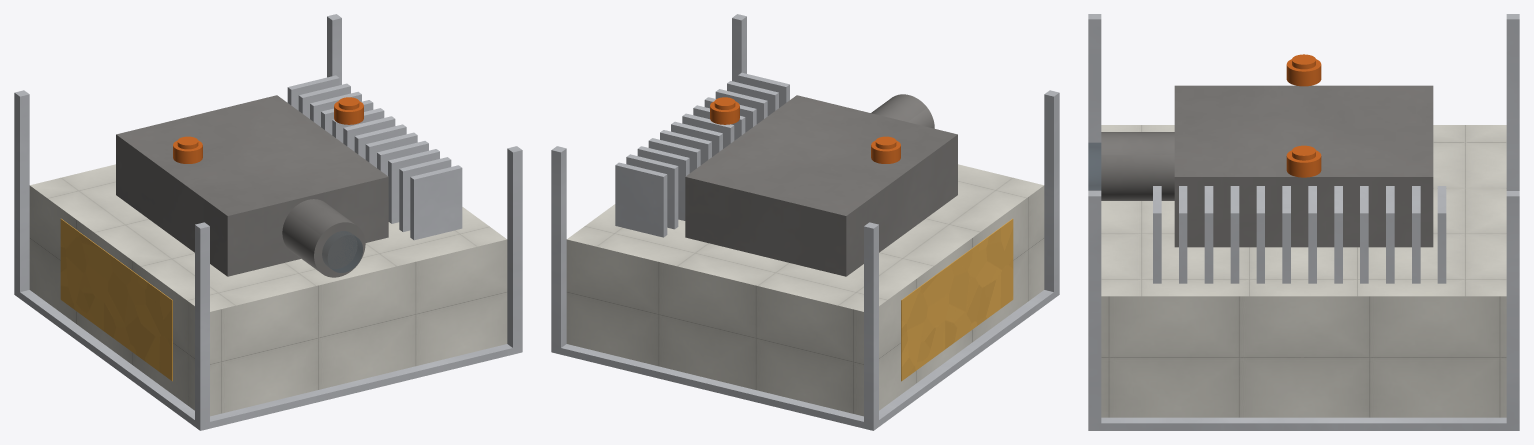
Rendered from sci01_spectrometer_medium.glb.
The picture shows the model from 3 angles, left to right: view 1: azimuth 30°, elevation 25°; view 2: azimuth 150°, elevation 25°; view 3: azimuth 270°, elevation 25°; orthographic projection. The views are drawn at different scales.
Visible parts, largest first — view 1: body, spectrometer, slot_frame, cooler, gold_panels, optics, port_2, port_1; view 2: body, spectrometer, slot_frame, cooler, gold_panels, port_2, port_1; view 3: body, spectrometer, slot_frame, cooler, port_1, port_2, optics.
Boxes of the visible parts, bbox=[...] form: body: bbox=[29, 164, 507, 416]; spectrometer: bbox=[116, 95, 388, 277]; slot_frame: bbox=[14, 14, 522, 430]; cooler: bbox=[287, 75, 462, 240]; gold_panels: bbox=[60, 218, 172, 381]; optics: bbox=[322, 231, 362, 272]; port_2: bbox=[334, 97, 363, 124]; port_1: bbox=[173, 136, 202, 163]; body: bbox=[566, 164, 1044, 416]; spectrometer: bbox=[685, 94, 957, 276]; slot_frame: bbox=[551, 14, 1059, 430]; cooler: bbox=[615, 72, 789, 237]; gold_panels: bbox=[901, 218, 1013, 381]; port_2: bbox=[710, 97, 739, 124]; port_1: bbox=[871, 136, 900, 163]; body: bbox=[1101, 125, 1506, 417]; spectrometer: bbox=[1101, 85, 1433, 247]; slot_frame: bbox=[1088, 14, 1519, 430]; cooler: bbox=[1153, 186, 1446, 283]; port_1: bbox=[1286, 54, 1321, 86]; port_2: bbox=[1286, 145, 1321, 177]; optics: bbox=[1088, 142, 1101, 190].
Size of the model in its own units: 1 by 0.6 by 1.
6 materials, 4 textured.
